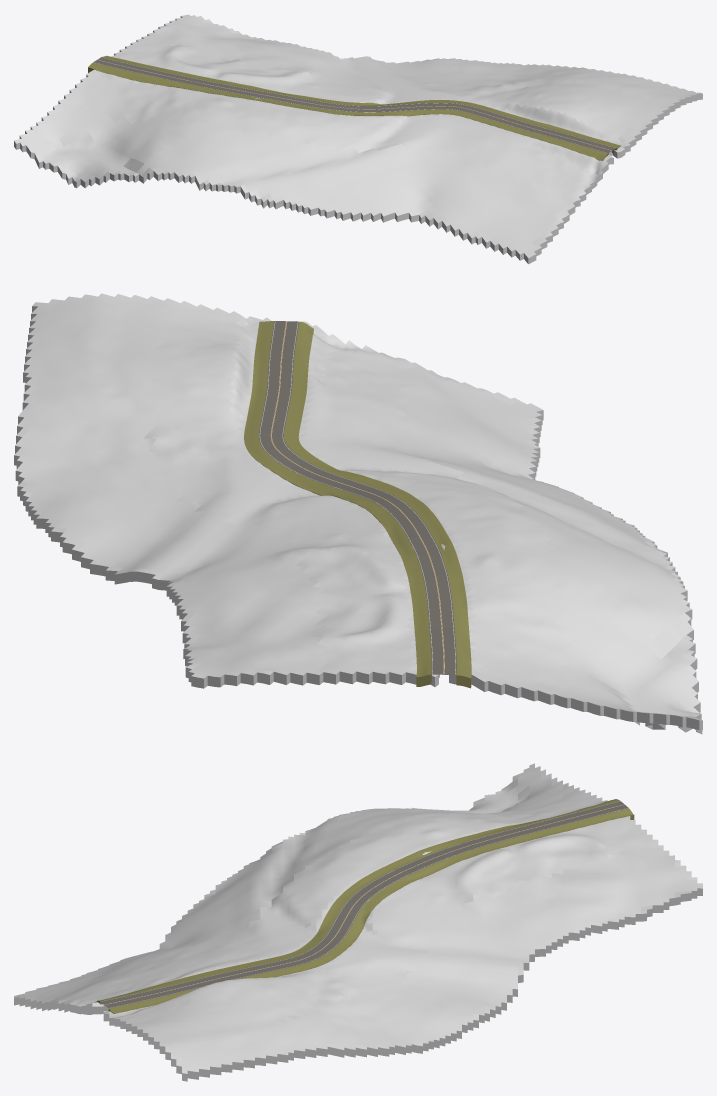
Rendered from conz_154.glb.
The picture shows the model from 3 angles, top to bottom: view 1: azimuth 30°, elevation 25°; view 2: azimuth 150°, elevation 25°; view 3: azimuth 270°, elevation 25°; orthographic projection. The views are drawn at different scales.
Parts seen in each view (by area): view 1: terrain154, road154, verge154L, verge154R, paint_yellow154; view 2: terrain154, road154, verge154R, verge154L, paint_white154, paint_yellow154; view 3: terrain154, road154, verge154R, verge154L, paint_white154, paint_yellow154.
Boxes of the visible parts, x1,y1,x2,y2 form: terrain154: (14, 14, 702, 264); road154: (93, 57, 616, 153); verge154L: (88, 62, 607, 160); verge154R: (102, 55, 621, 153); paint_yellow154: (97, 59, 611, 150); terrain154: (14, 293, 702, 734); road154: (258, 321, 456, 675); verge154R: (244, 321, 431, 686); verge154L: (284, 321, 471, 688); paint_white154: (259, 320, 455, 674); paint_yellow154: (270, 321, 444, 674); terrain154: (14, 763, 702, 1081); road154: (100, 801, 628, 1008); verge154R: (108, 808, 634, 1013); verge154L: (95, 799, 619, 1004); paint_white154: (102, 801, 627, 1007); paint_yellow154: (105, 804, 624, 1004).
Size of the model in its own units: 280 by 35.31 by 246.
